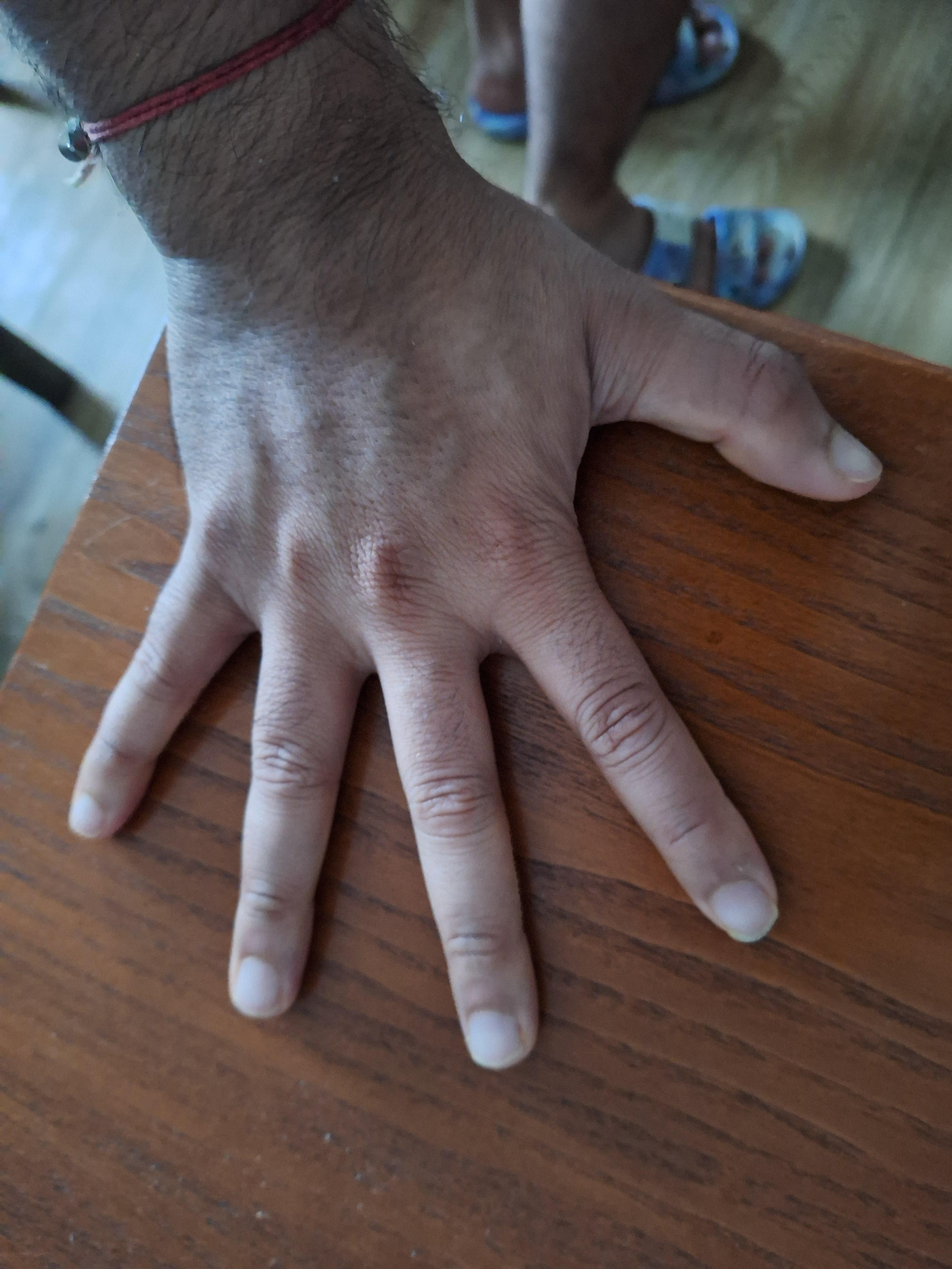Fingernail: (708, 879, 779, 943), (467, 1012, 526, 1068), (831, 425, 884, 481), (234, 957, 279, 1017), (70, 794, 105, 839)
